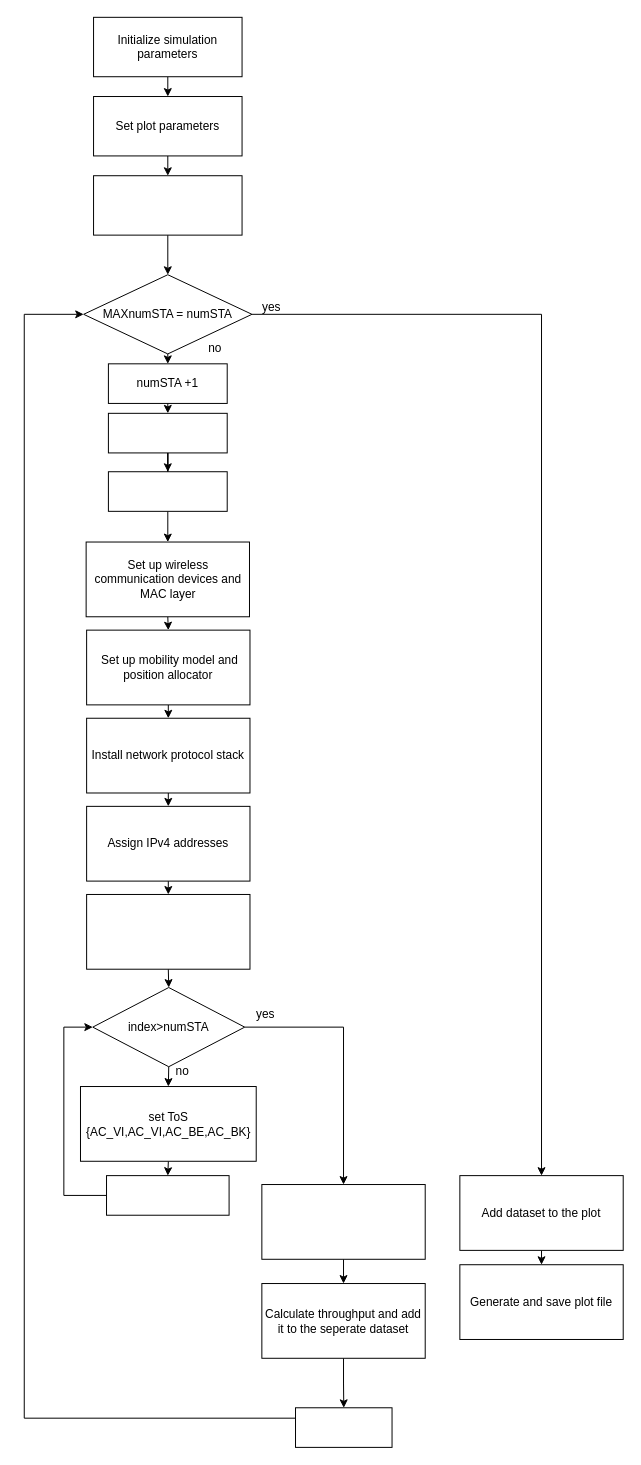
This 641x1465 diagram has some shape labels left out. Each missing label, with the centre of its shape:
Create 1 AP: (x=167, y=432)
Create STAs: (x=167, y=491)
index+1: (x=167, y=1195)
numSTA+1: (x=343, y=1427)
Set sourceApplications and sinkApplications: (x=168, y=931)
Set wireless channel parameters: (x=167, y=205)
Start simulation: (x=343, y=1221)
